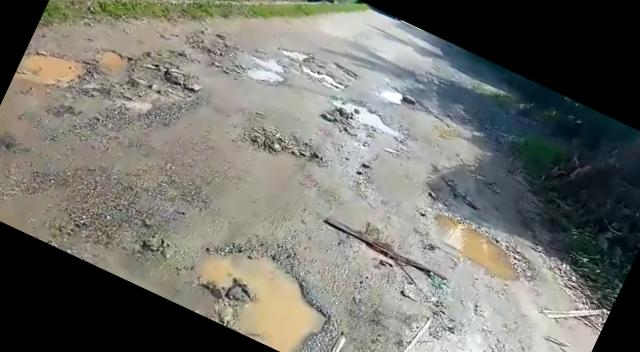pothole: (163, 213, 359, 352), (419, 207, 532, 284), (93, 36, 204, 114), (14, 34, 94, 102), (324, 88, 409, 142), (274, 42, 350, 92), (240, 50, 290, 90), (380, 84, 408, 107)
